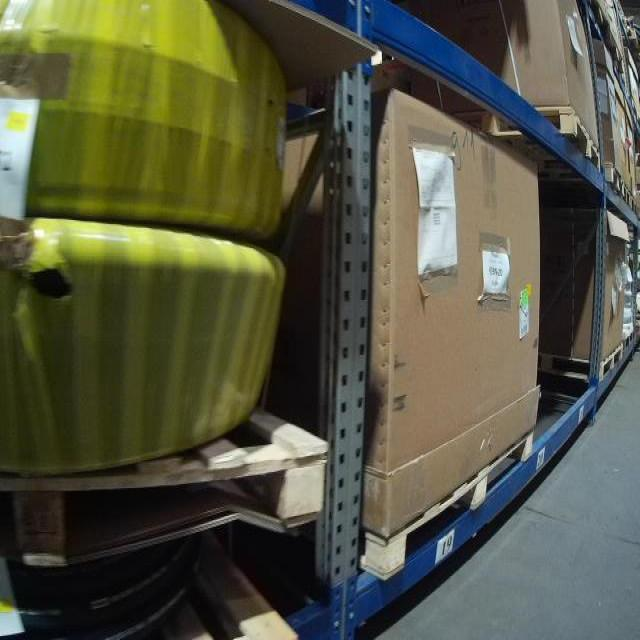pallet: (4, 404, 323, 564), (363, 419, 538, 581), (433, 103, 607, 175), (538, 338, 628, 389), (604, 163, 626, 201)
